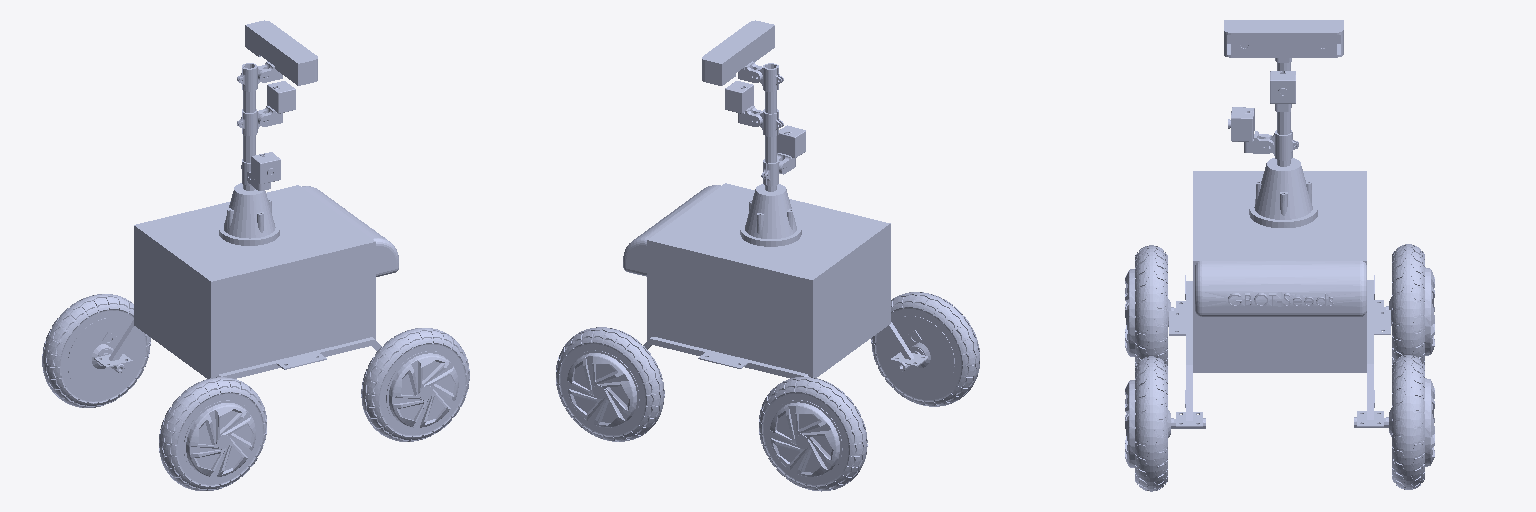
robot.urdf — gbot_seeds:
<?xml version="1.0" encoding="utf-8"?>
<!-- This URDF was automatically created by SolidWorks to URDF Exporter! Originally created by [author] ([email redacted]) 
     Commit Version: 1.5.1-0-g916b5db  Build Version: 1.5.7152.31018
     For more information, please see http://wiki.ros.org/sw_urdf_exporter -->
<robot
  name="gbot_seeds">
  <link
    name="base_link">
    <inertial>
      <origin
        xyz="0.0553904425615102 0.00113748756294395 0.129883619627932"
        rpy="0 0 0" />
      <mass
        value="2.31853271177188" />
      <inertia
        ixx="0.018527099319103"
        ixy="2.30116371294385E-07"
        ixz="4.08313298630105E-05"
        iyy="0.0202888044212146"
        iyz="1.84161413608486E-07"
        izz="0.0272988542662515" />
    </inertial>
    <visual>
      <origin
        xyz="0 0 0"
        rpy="0 0 0" />
      <geometry>
        <mesh
          filename="package://gbot_seeds/meshes/base_link.STL" />
      </geometry>
      <material
        name="">
        <color
          rgba="0.792156862745098 0.819607843137255 0.933333333333333 1" />
      </material>
    </visual>
    <collision>
      <origin
        xyz="0 0 0"
        rpy="0 0 0" />
      <geometry>
        <mesh
          filename="package://gbot_seeds/meshes/base_link.STL" />
      </geometry>
    </collision>
  </link>
  <link
    name="rigth_back_wheel">
    <inertial>
      <origin
        xyz="-2.40119035765929E-12 0.0331497318284548 -4.87278206678932E-06"
        rpy="0 0 0" />
      <mass
        value="1.4314468827702" />
      <inertia
        ixx="0.00331966385882785"
        ixy="-1.45452365120741E-14"
        ixz="-3.05004692237298E-10"
        iyy="0.00595558734491726"
        iyz="3.90259323980359E-07"
        izz="0.0033196987592927" />
    </inertial>
    <visual>
      <origin
        xyz="0 0 0"
        rpy="0 0 0" />
      <geometry>
        <mesh
          filename="package://gbot_seeds/meshes/rigth_back_wheel.STL" />
      </geometry>
      <material
        name="">
        <color
          rgba="0.792156862745098 0.819607843137255 0.933333333333333 1" />
      </material>
    </visual>
    <collision>
      <origin
        xyz="0 0 0"
        rpy="0 0 0" />
      <geometry>
        <mesh
          filename="package://gbot_seeds/meshes/rigth_back_wheel.STL" />
      </geometry>
    </collision>
  </link>
  <joint
    name="joint_rigth_back_wheel"
    type="continuous">
    <origin
      xyz="-0.18656 -0.2221 -0.062591"
      rpy="0 0 0" />
    <parent
      link="base_link" />
    <child
      link="rigth_back_wheel" />
    <axis
      xyz="0 -1 0" />
  </joint>
  <link
    name="rigth_foward_wheel">
    <inertial>
      <origin
        xyz="-2.41212605445185E-12 0.0331497318284464 -4.87278206684483E-06"
        rpy="0 0 0" />
      <mass
        value="1.4314468827702" />
      <inertia
        ixx="0.00331966385882785"
        ixy="-1.45448145383519E-14"
        ixz="-3.05004692358221E-10"
        iyy="0.00595558734491727"
        iyz="3.90259323980046E-07"
        izz="0.0033196987592927" />
    </inertial>
    <visual>
      <origin
        xyz="0 0 0"
        rpy="0 0 0" />
      <geometry>
        <mesh
          filename="package://gbot_seeds/meshes/rigth_foward_wheel.STL" />
      </geometry>
      <material
        name="">
        <color
          rgba="0.792156862745098 0.819607843137255 0.933333333333333 1" />
      </material>
    </visual>
    <collision>
      <origin
        xyz="0 0 0"
        rpy="0 0 0" />
      <geometry>
        <mesh
          filename="package://gbot_seeds/meshes/rigth_foward_wheel.STL" />
      </geometry>
    </collision>
  </link>
  <joint
    name="joint_rigth_foward_wheel"
    type="continuous">
    <origin
      xyz="0.1949 -0.2221 -0.062591"
      rpy="0 0 0" />
    <parent
      link="base_link" />
    <child
      link="rigth_foward_wheel" />
    <axis
      xyz="0 -1 0" />
  </joint>
  <link
    name="left_back_wheel">
    <inertial>
      <origin
        xyz="2.42431075214711E-12 -0.0331497318284389 -4.87278206678932E-06"
        rpy="0 0 0" />
      <mass
        value="1.43144688277019" />
      <inertia
        ixx="0.00331966385882785"
        ixy="-1.45269075521099E-14"
        ixz="3.05004692922384E-10"
        iyy="0.00595558734491726"
        iyz="-3.90259323978443E-07"
        izz="0.00331969875929269" />
    </inertial>
    <visual>
      <origin
        xyz="0 0 0"
        rpy="0 0 0" />
      <geometry>
        <mesh
          filename="package://gbot_seeds/meshes/left_back_wheel.STL" />
      </geometry>
      <material
        name="">
        <color
          rgba="0.792156862745098 0.819607843137255 0.933333333333333 1" />
      </material>
    </visual>
    <collision>
      <origin
        xyz="0 0 0"
        rpy="0 0 0" />
      <geometry>
        <mesh
          filename="package://gbot_seeds/meshes/left_back_wheel.STL" />
      </geometry>
    </collision>
  </link>
  <joint
    name="joint_left_back_wheel"
    type="continuous">
    <origin
      xyz="-0.1906 0.2221 -0.062591"
      rpy="0 0 0" />
    <parent
      link="base_link" />
    <child
      link="left_back_wheel" />
    <axis
      xyz="0 1 0" />
  </joint>
  <link
    name="left_foward_wheel">
    <inertial>
      <origin
        xyz="2.42569853092789E-12 -0.0331497318284375 -4.87278206673381E-06"
        rpy="0 0 0" />
      <mass
        value="1.43144688277019" />
      <inertia
        ixx="0.00331966385882785"
        ixy="-1.45259875603743E-14"
        ixz="3.05004693644362E-10"
        iyy="0.00595558734491726"
        iyz="-3.90259323980073E-07"
        izz="0.00331969875929269" />
    </inertial>
    <visual>
      <origin
        xyz="0 0 0"
        rpy="0 0 0" />
      <geometry>
        <mesh
          filename="package://gbot_seeds/meshes/left_foward_wheel.STL" />
      </geometry>
      <material
        name="">
        <color
          rgba="0.792156862745098 0.819607843137255 0.933333333333333 1" />
      </material>
    </visual>
    <collision>
      <origin
        xyz="0 0 0"
        rpy="0 0 0" />
      <geometry>
        <mesh
          filename="package://gbot_seeds/meshes/left_foward_wheel.STL" />
      </geometry>
    </collision>
  </link>
  <joint
    name="joint_left_foward_wheel"
    type="continuous">
    <origin
      xyz="0.19016 0.2221 -0.062591"
      rpy="0 0 0" />
    <parent
      link="base_link" />
    <child
      link="left_foward_wheel" />
    <axis
      xyz="0 1 0" />
  </joint>
  <link
    name="rgb_camera_side">
    <inertial>
      <origin
        xyz="0.00113468804305669 0.0203709001337813 3.99668076411785E-11"
        rpy="0 0 0" />
      <mass
        value="0.0479573335905894" />
      <inertia
        ixx="1.01756104726194E-05"
        ixy="6.86174879856498E-08"
        ixz="-5.36289082964388E-14"
        iyy="1.14036687926879E-05"
        iyz="-1.20558285204482E-14"
        izz="1.01992691696519E-05" />
    </inertial>
    <visual>
      <origin
        xyz="0 0 0"
        rpy="0 0 0" />
      <geometry>
        <mesh
          filename="package://gbot_seeds/meshes/rgb_camera_side.STL" />
      </geometry>
      <material
        name="">
        <color
          rgba="0.792156862745098 0.819607843137255 0.933333333333333 1" />
      </material>
    </visual>
    <collision>
      <origin
        xyz="0 0 0"
        rpy="0 0 0" />
      <geometry>
        <mesh
          filename="package://gbot_seeds/meshes/rgb_camera_side.STL" />
      </geometry>
    </collision>
  </link>
  <joint
    name="joint_rgb_camera_side"
    type="fixed">
    <origin
      xyz="-0.011411 -0.075037 0.32166"
      rpy="0 0 0" />
    <parent
      link="base_link" />
    <child
      link="rgb_camera_side" />
    <axis
      xyz="0 0 0" />
  </joint>
  <link
    name="rgb_front_camera">
    <inertial>
      <origin
        xyz="-0.0204005333910195 0.000280079353794167 -2.97325848684915E-05"
        rpy="0 0 0" />
      <mass
        value="0.0479573338696644" />
      <inertia
        ixx="1.14072555151408E-05"
        ixy="-1.69617533804494E-08"
        ixz="1.76057881164294E-09"
        iyy="1.01720213342238E-05"
        iyz="-2.42268841730662E-11"
        izz="1.01992717586368E-05" />
    </inertial>
    <visual>
      <origin
        xyz="0 0 0"
        rpy="0 0 0" />
      <geometry>
        <mesh
          filename="package://gbot_seeds/meshes/rgb_front_camera.STL" />
      </geometry>
      <material
        name="">
        <color
          rgba="0.792156862745098 0.819607843137255 0.933333333333333 1" />
      </material>
    </visual>
    <collision>
      <origin
        xyz="0 0 0"
        rpy="0 0 0" />
      <geometry>
        <mesh
          filename="package://gbot_seeds/meshes/rgb_front_camera.STL" />
      </geometry>
    </collision>
  </link>
  <joint
    name="joint_rgb_front_camera"
    type="fixed">
    <origin
      xyz="0.073565 0.0042279 0.41078"
      rpy="0 0 0" />
    <parent
      link="base_link" />
    <child
      link="rgb_front_camera" />
    <axis
      xyz="0 0 0" />
  </joint>
  <link
    name="mynteye_camera">
    <inertial>
      <origin
        xyz="-0.0197960945345471 0.000483501809540014 0.0792949214654225"
        rpy="0 0 0" />
      <mass
        value="0.0963069752443604" />
      <inertia
        ixx="0.000301557937541839"
        ixy="-5.90605585318967E-07"
        ixz="3.75945503558149E-07"
        iyy="4.19926052160339E-05"
        iyz="-1.18936551983875E-06"
        izz="0.000300310748881005" />
    </inertial>
    <visual>
      <origin
        xyz="0 0 0"
        rpy="0 0 0" />
      <geometry>
        <mesh
          filename="package://gbot_seeds/meshes/mynteye_camera.STL" />
      </geometry>
      <material
        name="">
        <color
          rgba="0.792156862745098 0.819607843137255 0.933333333333333 1" />
      </material>
    </visual>
    <collision>
      <origin
        xyz="0 0 0"
        rpy="0 0 0" />
      <geometry>
        <mesh
          filename="package://gbot_seeds/meshes/mynteye_camera.STL" />
      </geometry>
    </collision>
  </link>
  <joint
    name="joint_mynteye_camera"
    type="fixed">
    <origin
      xyz="0.073565 0.0042279 0.41078"
      rpy="0 0 0" />
    <parent
      link="base_link" />
    <child
      link="mynteye_camera" />
    <axis
      xyz="0 0 0" />
  </joint>
</robot>

--- What the picture shows (computed from the rendered views, not written in the file) ---
Views: 3 orthographic renders of the robot side by side, from view 1: azimuth 30°, elevation 25°; view 2: azimuth 150°, elevation 25°; view 3: azimuth 270°, elevation 25°.
Model gbot_seeds with 8 links and 7 joints (4 continuous, 3 fixed), rooted at base_link, posed every joint at zero.
Visible links, largest first — view 1: base_link, rigth_back_wheel, rigth_foward_wheel, left_back_wheel, mynteye_camera, rgb_camera_side, rgb_front_camera; view 2: base_link, left_foward_wheel, left_back_wheel, rigth_back_wheel, mynteye_camera, rgb_front_camera, rgb_camera_side; view 3: base_link, rigth_foward_wheel, left_foward_wheel, rigth_back_wheel, mynteye_camera, left_back_wheel, rgb_front_camera, rgb_camera_side.
Link boxes in pixels (x1,y1,x2,y2): base_link: (94,61,398,378); rigth_back_wheel: (159,377,266,490); rigth_foward_wheel: (361,328,469,441); left_back_wheel: (42,294,150,407); mynteye_camera: (245,20,317,85); rgb_camera_side: (251,152,280,183); rgb_front_camera: (267,81,295,113); base_link: (623,61,928,378); left_foward_wheel: (556,327,664,441); left_back_wheel: (759,377,867,491); rigth_back_wheel: (871,292,979,406); mynteye_camera: (702,20,774,85); rgb_front_camera: (725,81,753,113); rgb_camera_side: (777,125,805,157); base_link: (1169,58,1390,426); rigth_foward_wheel: (1125,356,1205,491); left_foward_wheel: (1354,355,1434,489); rigth_back_wheel: (1125,245,1175,365); mynteye_camera: (1224,20,1343,57); left_back_wheel: (1384,244,1434,364); rgb_front_camera: (1270,71,1295,103); rgb_camera_side: (1228,107,1254,141).
Size in the robot's own frame: 0.5821 by 0.4502 by 0.6705 metres.
Meshes: 8 distinct files referenced, 8 mesh visuals loaded (8 binary STL).